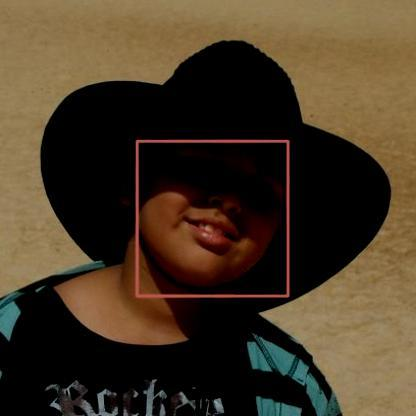without_mask: (137, 141, 288, 296)
